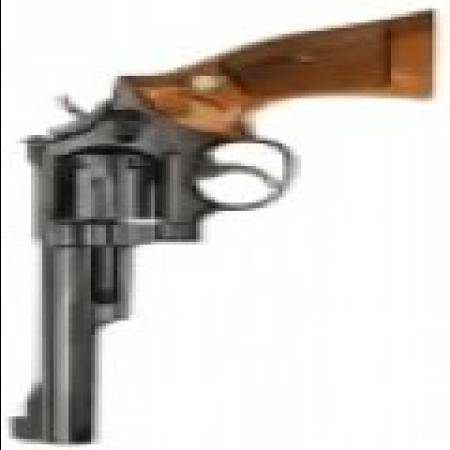Pistol: (7, 11, 428, 447)
